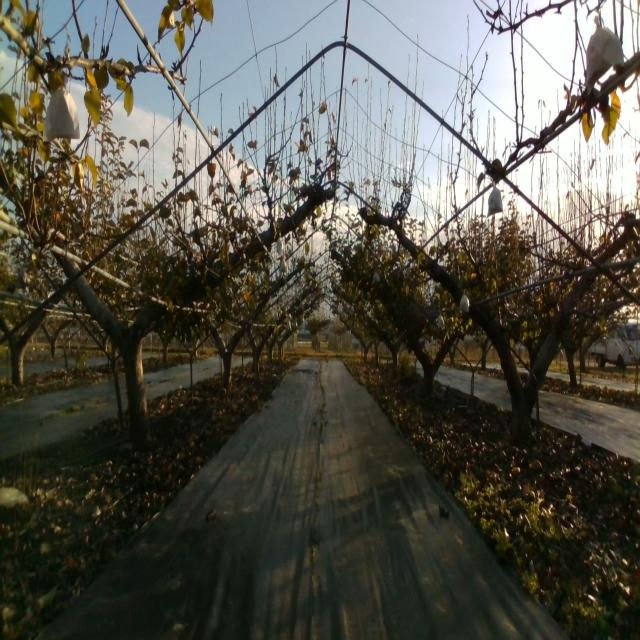pearbags: (585, 14, 625, 95), (41, 84, 80, 144), (487, 180, 502, 217), (459, 290, 470, 314)
